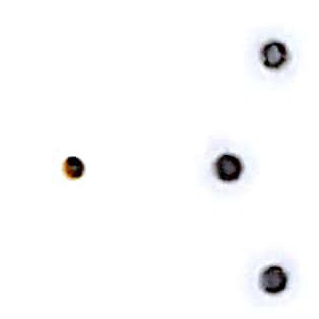cancer: (190, 128, 267, 199), (242, 22, 314, 92), (238, 240, 310, 310)
normal: (52, 149, 100, 187)
